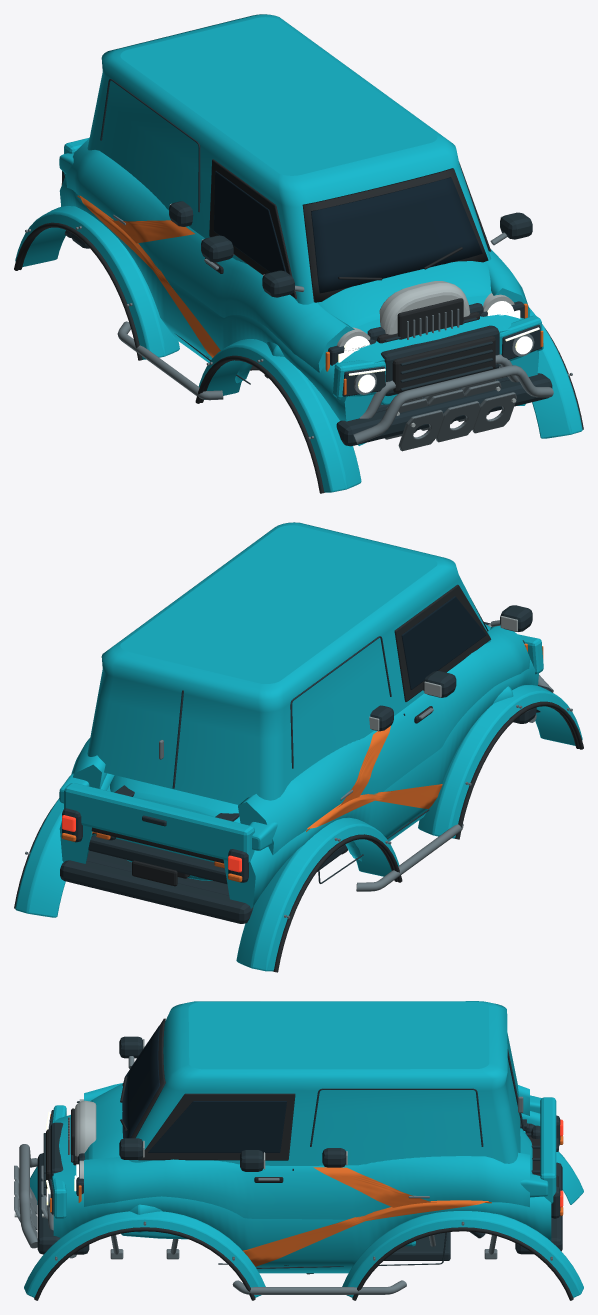
Rendered from truck-library-v2.glb.
3 views of the same model, one above another, from view 1: azimuth 30°, elevation 25°; view 2: azimuth 150°, elevation 25°; view 3: azimuth 270°, elevation 25° (orthographic). The views are drawn at different scales.
Visible parts, largest first — view 1: DR2_Body_van, DR2_Body_pickup, DR2_Body_buggy, DR2_Body_hotrod; view 2: DR2_Body_van, DR2_Body_pickup, DR2_Body_buggy, DR2_Body_hotrod; view 3: DR2_Body_van, DR2_Body_pickup, DR2_Body_buggy, DR2_Body_hotrod.
Boxes of the visible parts, <box> form: DR2_Body_van: <box>66,14,532,439</box>; DR2_Body_pickup: <box>59,137,553,451</box>; DR2_Body_buggy: <box>14,206,583,493</box>; DR2_Body_hotrod: <box>18,201,571,492</box>; DR2_Body_van: <box>71,522,536,889</box>; DR2_Body_pickup: <box>59,622,553,923</box>; DR2_Body_buggy: <box>14,685,583,972</box>; DR2_Body_hotrod: <box>26,623,579,971</box>; DR2_Body_van: <box>41,1001,532,1265</box>; DR2_Body_pickup: <box>14,1095,563,1294</box>; DR2_Body_buggy: <box>24,1123,583,1300</box>; DR2_Body_hotrod: <box>24,1099,583,1286</box>.
Size of the model in its own units: 2.1 by 1.95 by 4.48.
